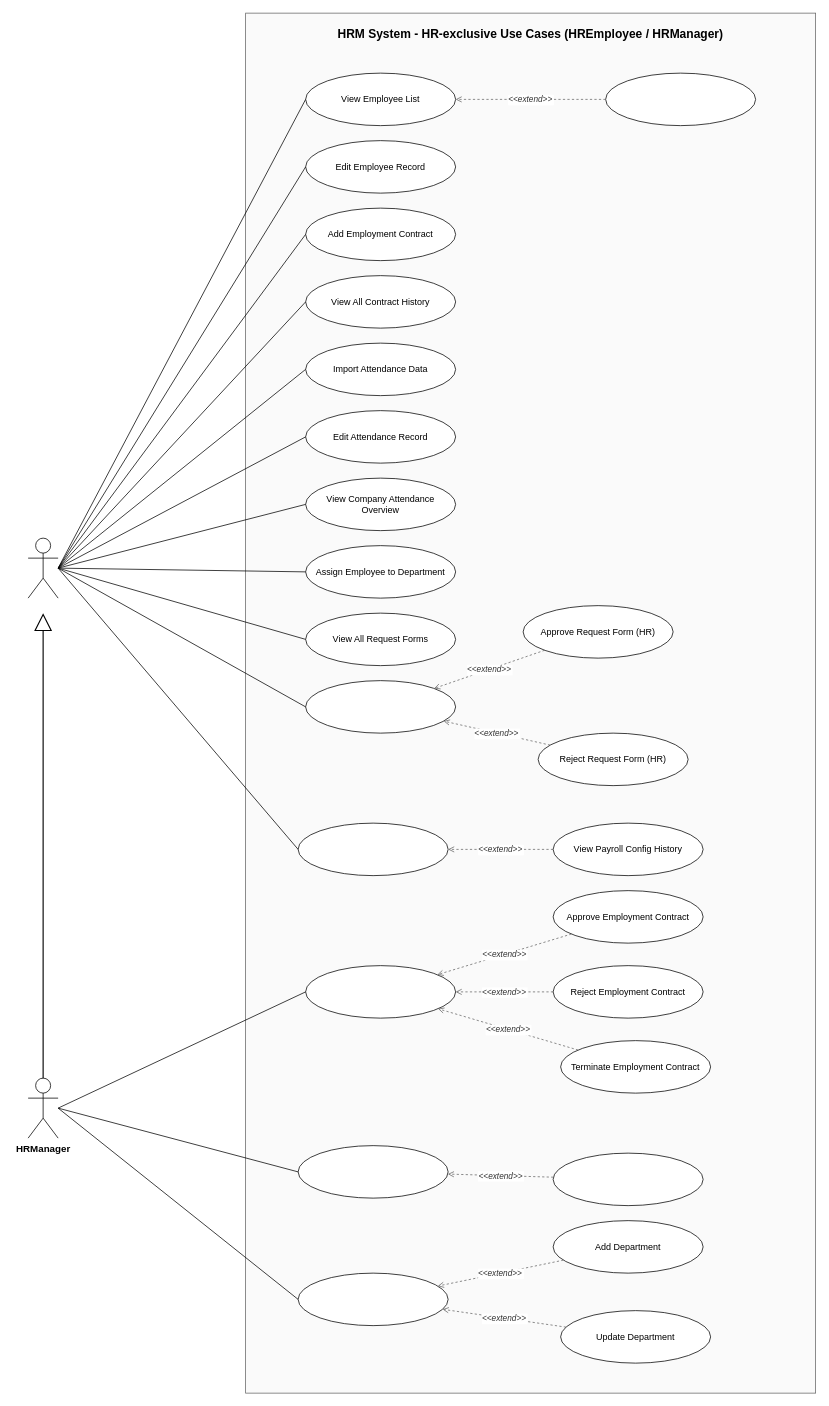
The diagram is 829 pixels wide and 1406 high, and some of its shapes have lost their labels. Each missing label, with the box of its shape:
Approve Payroll (Bulk): (552, 1152, 703, 1206)
Configure Payroll Settings: (297, 822, 448, 876)
Generate Payroll Run: (297, 1145, 448, 1198)
HREmployee: (27, 537, 58, 598)
Manage Departments: (297, 1272, 448, 1326)
Review Request Form (HR): (305, 680, 456, 733)
View Employee Detail: (605, 72, 756, 126)
View Pending Contracts: (305, 965, 456, 1018)
